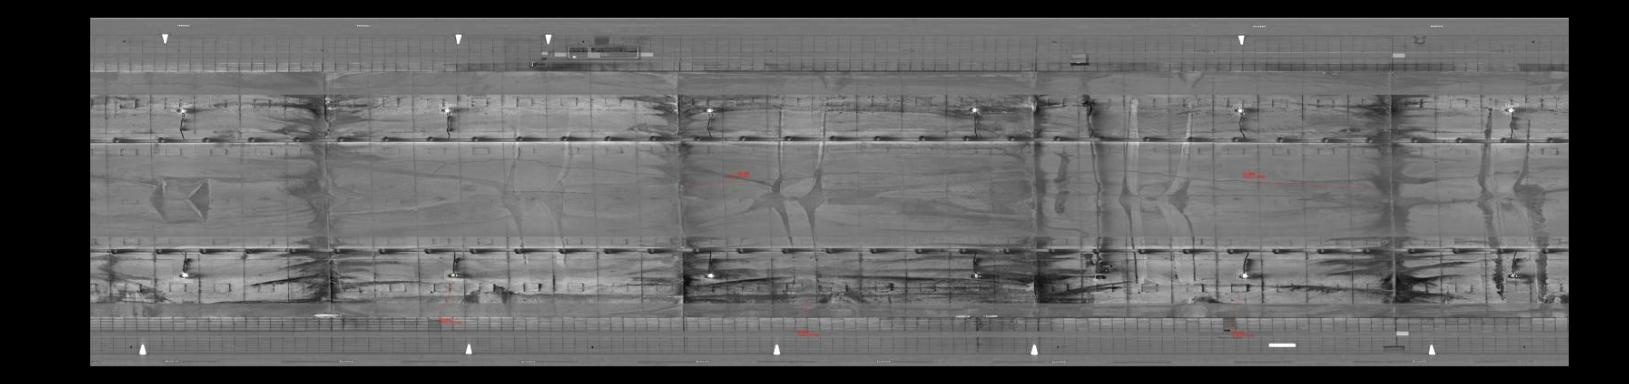light: (1228, 104, 1251, 117), (173, 269, 193, 283), (444, 269, 464, 281), (171, 103, 192, 114), (698, 104, 721, 114), (1501, 103, 1519, 115), (439, 104, 459, 114), (1236, 269, 1254, 280), (701, 270, 718, 281), (1505, 269, 1522, 280), (965, 271, 985, 280), (965, 105, 983, 115)
